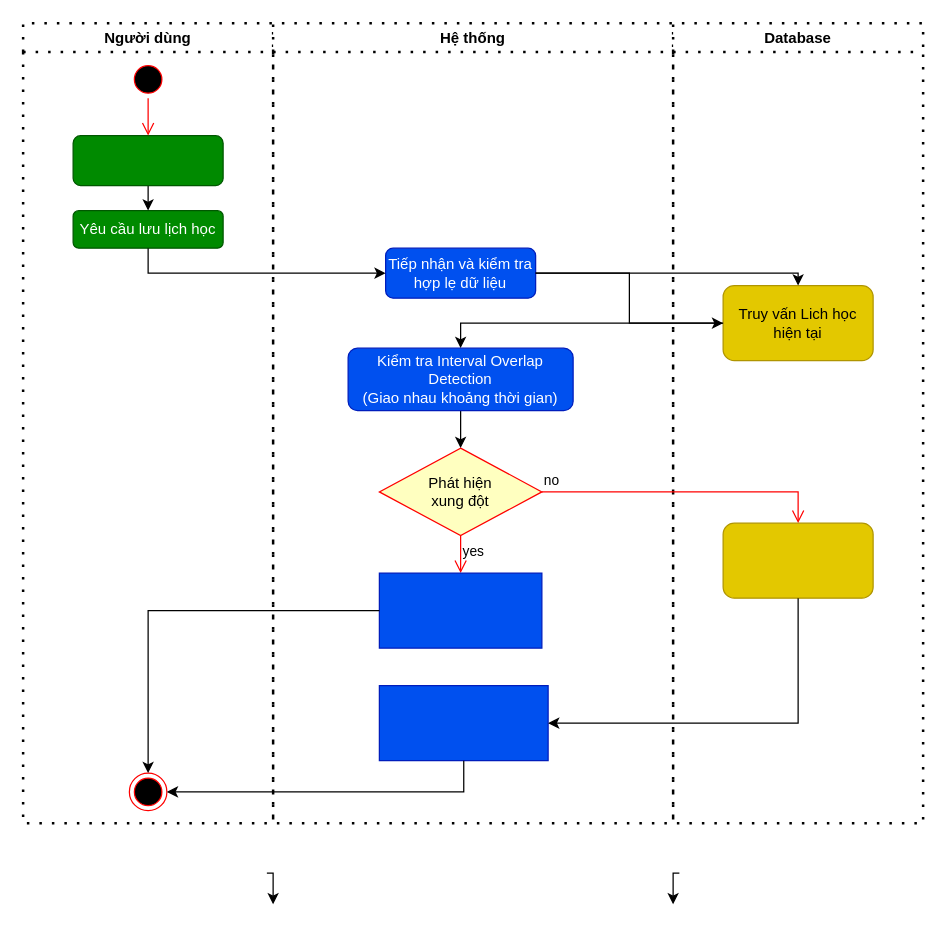
Some shapes in this 945 by 936 pixel diagram are drawn without their labels. The centre of each missing label's shape, as x and y in pixels:
Hiển thị thông báo lỗi: "Phòng học đã được sử dụng...": [460,610]
Hiển thị thông báo: "Thêm lịch học thành công!.": [463,722]
INSERT INTO class_schedules: [797,560]
Nhập thông tin lich học: [147,160]
